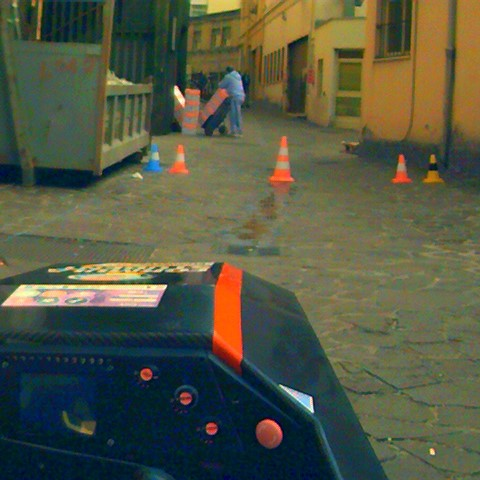cone: (143, 144, 163, 171)
